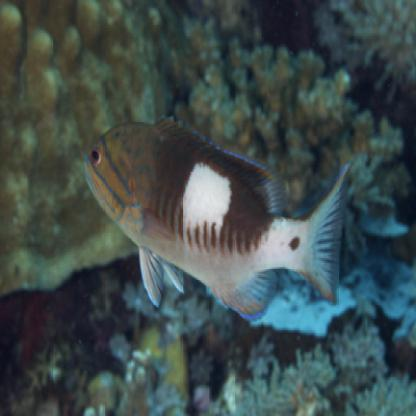Serranidae -Groupers-: (84, 112, 356, 322)
